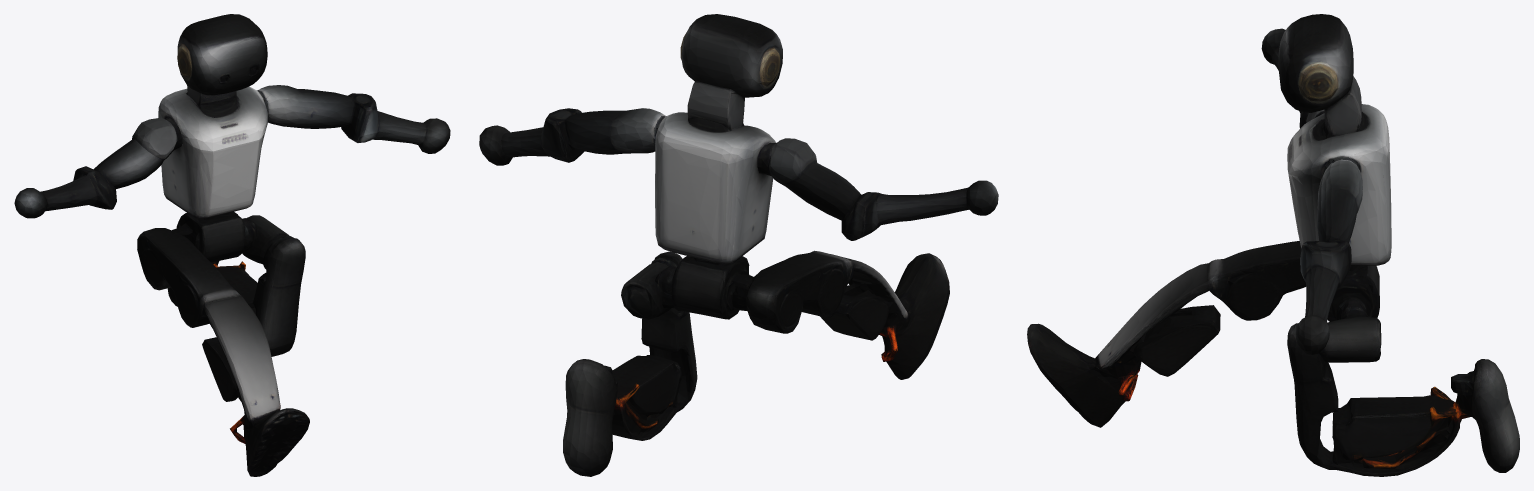
3 views of the same model, side by side, from view 1: azimuth 30°, elevation 25°; view 2: azimuth 150°, elevation 25°; view 3: azimuth 270°, elevation 25° (orthographic). The views are drawn at different scales.
Visible parts, largest first — view 1: world; view 2: world; view 3: world.
Part boxes in pixels (bbox=[...]): world: bbox=[14, 14, 450, 476]; world: bbox=[479, 14, 998, 476]; world: bbox=[1027, 14, 1519, 476].
Bounding box in the file's own units: 99.86 × 80.17 × 82.43.
